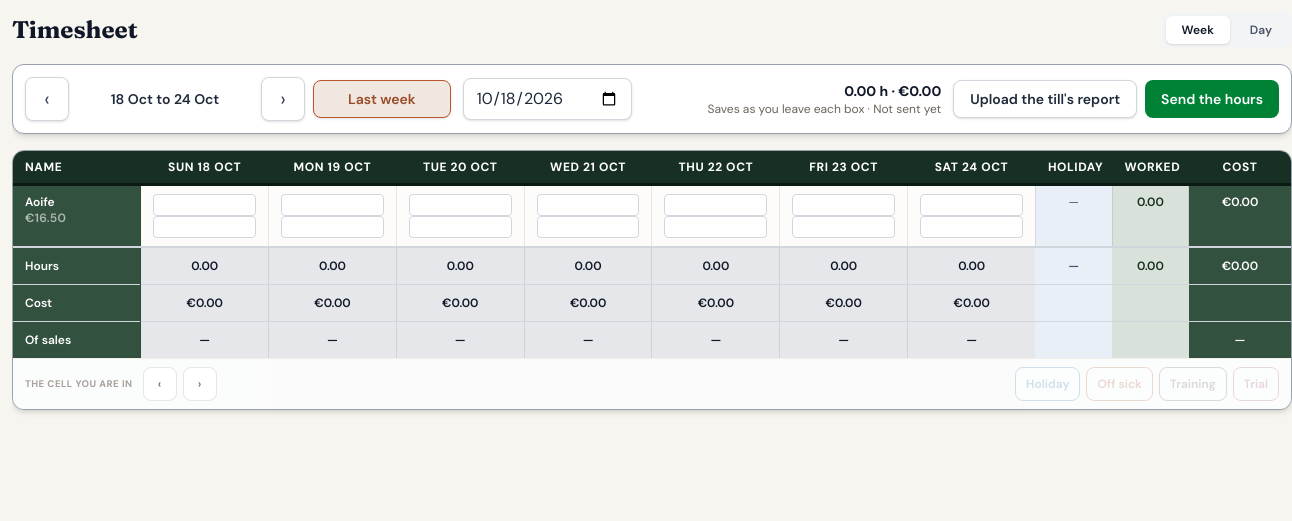
Test: a start and a finish at the same time › is not saved as a new row either
This screenshot has width=1292, height=521.
Type "0900" into the 1st field named "Clock out". click: {"x": 205, "y": 227}
box: [153,216,256,238]
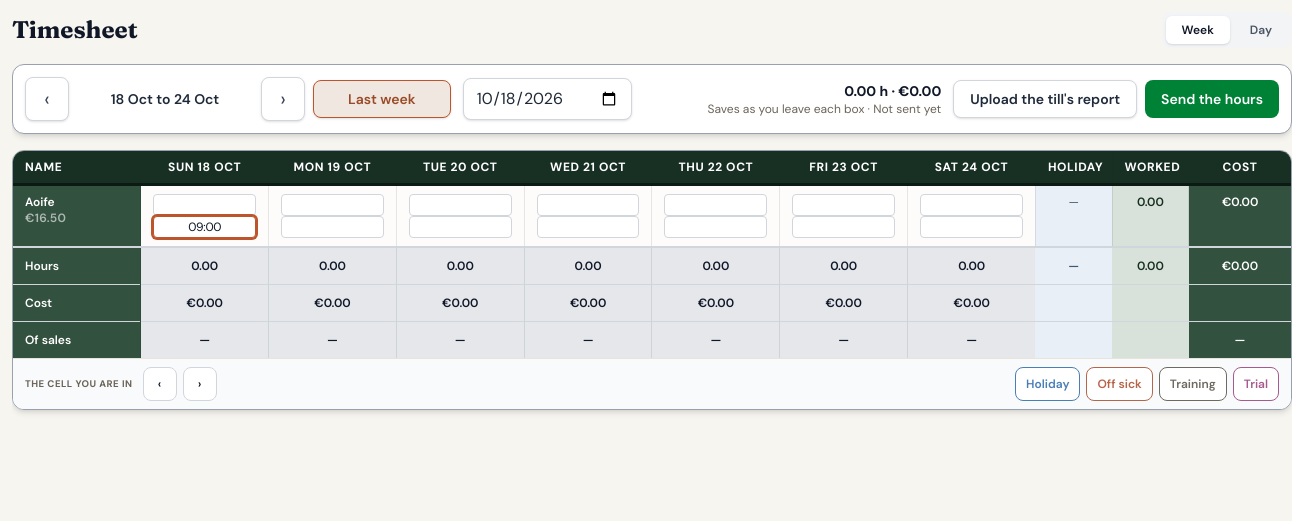
Type "0900" into the 1st field named "Clock in". click: {"x": 205, "y": 205}
box: [153,194,256,216]
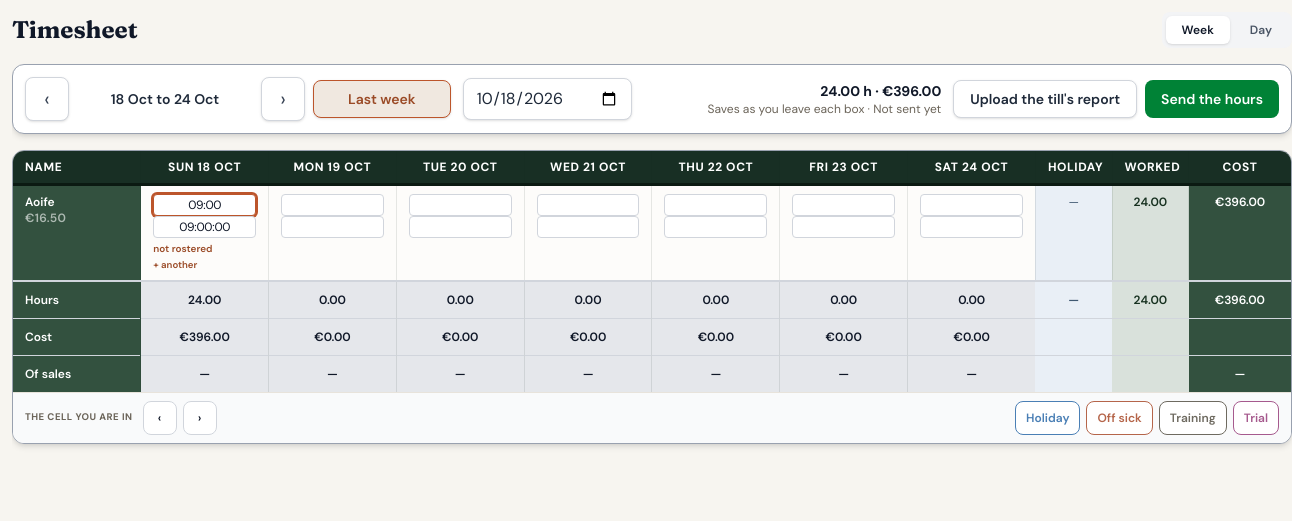
Press Tab
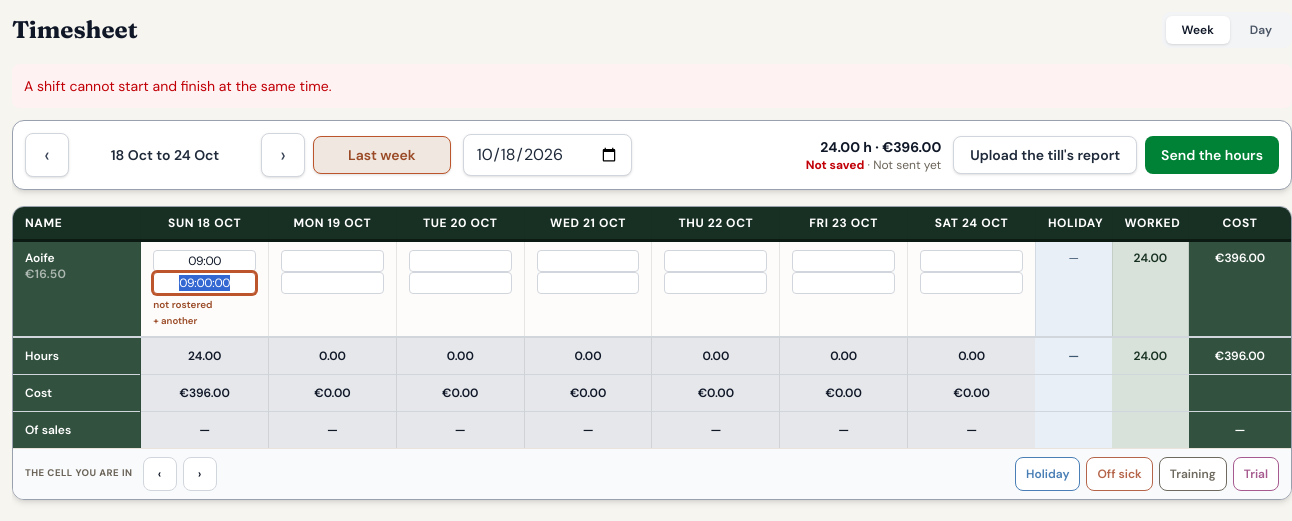
Now the text "A shift cannot start and finish at the same time." is shown, box [12,64,1291,108]
